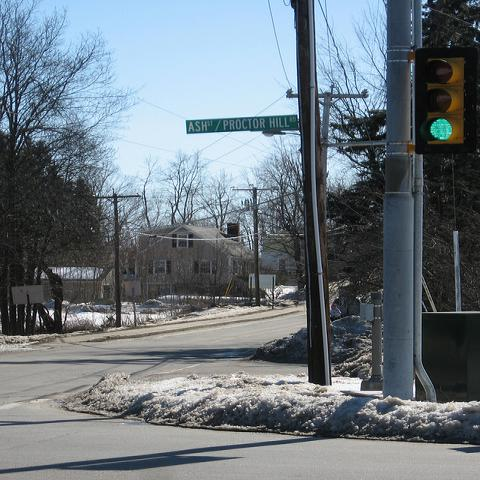car: (138, 302, 164, 308)
